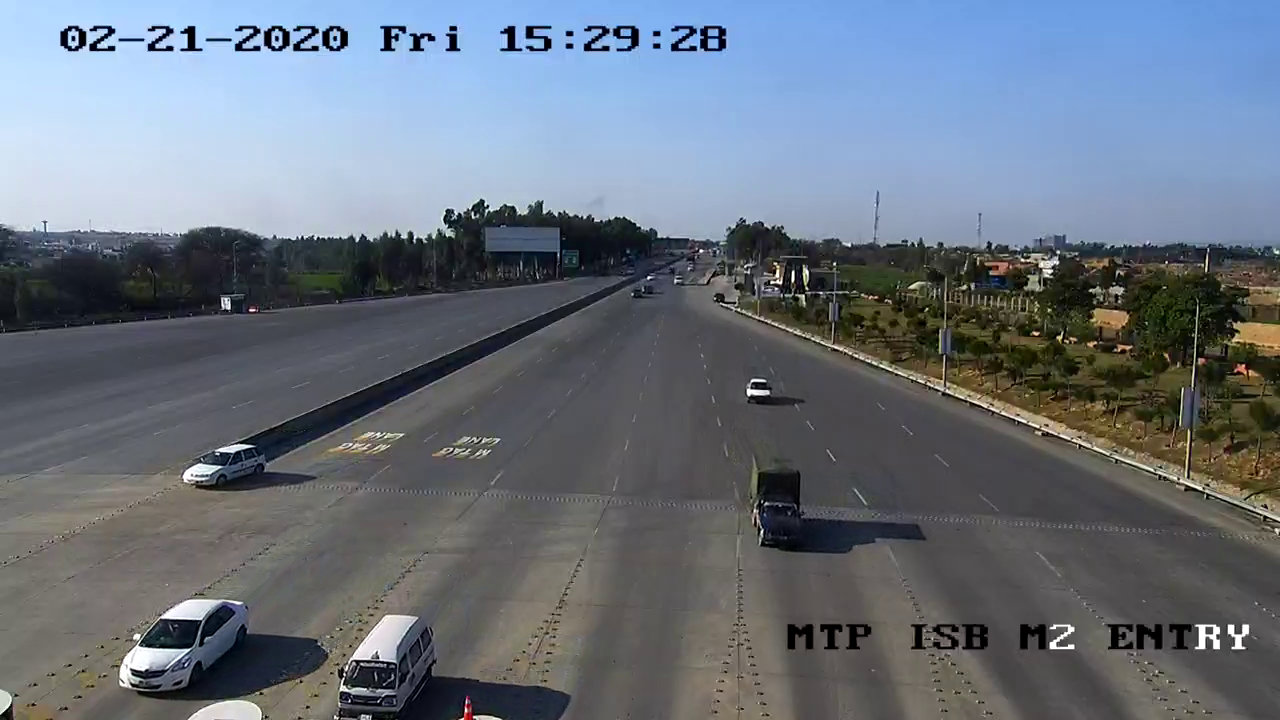f1: (104, 590, 260, 701), (319, 601, 448, 720)
f2: (737, 447, 817, 561)
